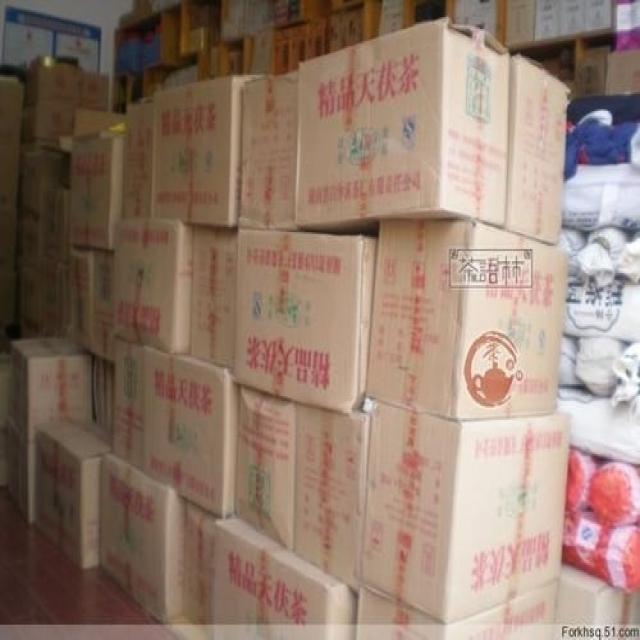box: (360, 394, 570, 626), (295, 16, 511, 237), (365, 220, 570, 422), (233, 228, 378, 416), (153, 76, 277, 228), (213, 517, 359, 638), (142, 346, 238, 518), (295, 400, 372, 590), (99, 454, 186, 622), (507, 56, 571, 246), (33, 421, 112, 570), (356, 583, 557, 638), (114, 219, 192, 353), (234, 384, 296, 552), (239, 72, 304, 231), (12, 337, 94, 441), (190, 227, 239, 372), (70, 136, 124, 249), (184, 499, 220, 636), (112, 338, 146, 470), (123, 95, 154, 220), (68, 243, 94, 353), (8, 420, 34, 524), (93, 247, 115, 363), (94, 356, 113, 436)
